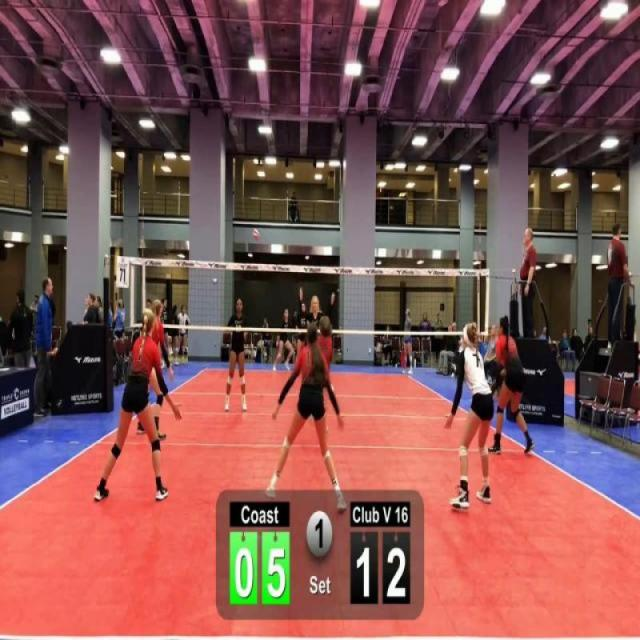volleyball: (251, 226, 261, 242)
